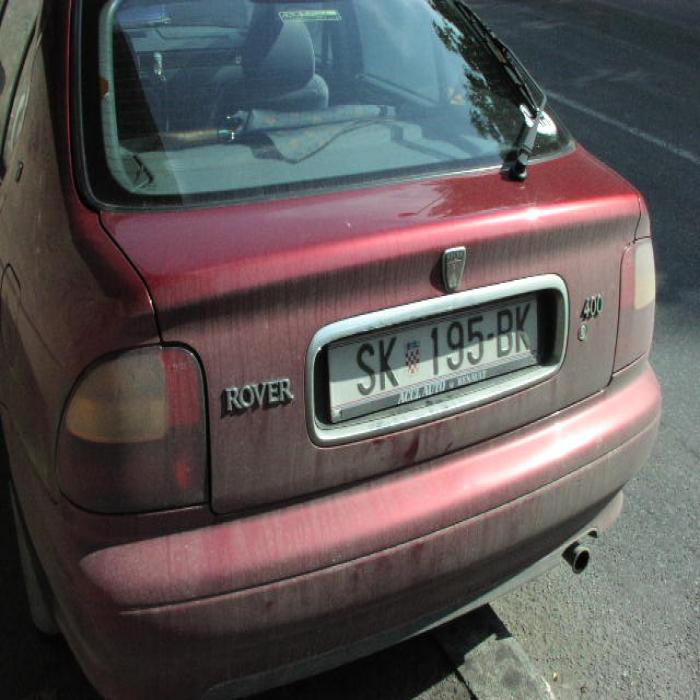number_plate: (329, 298, 537, 414)
